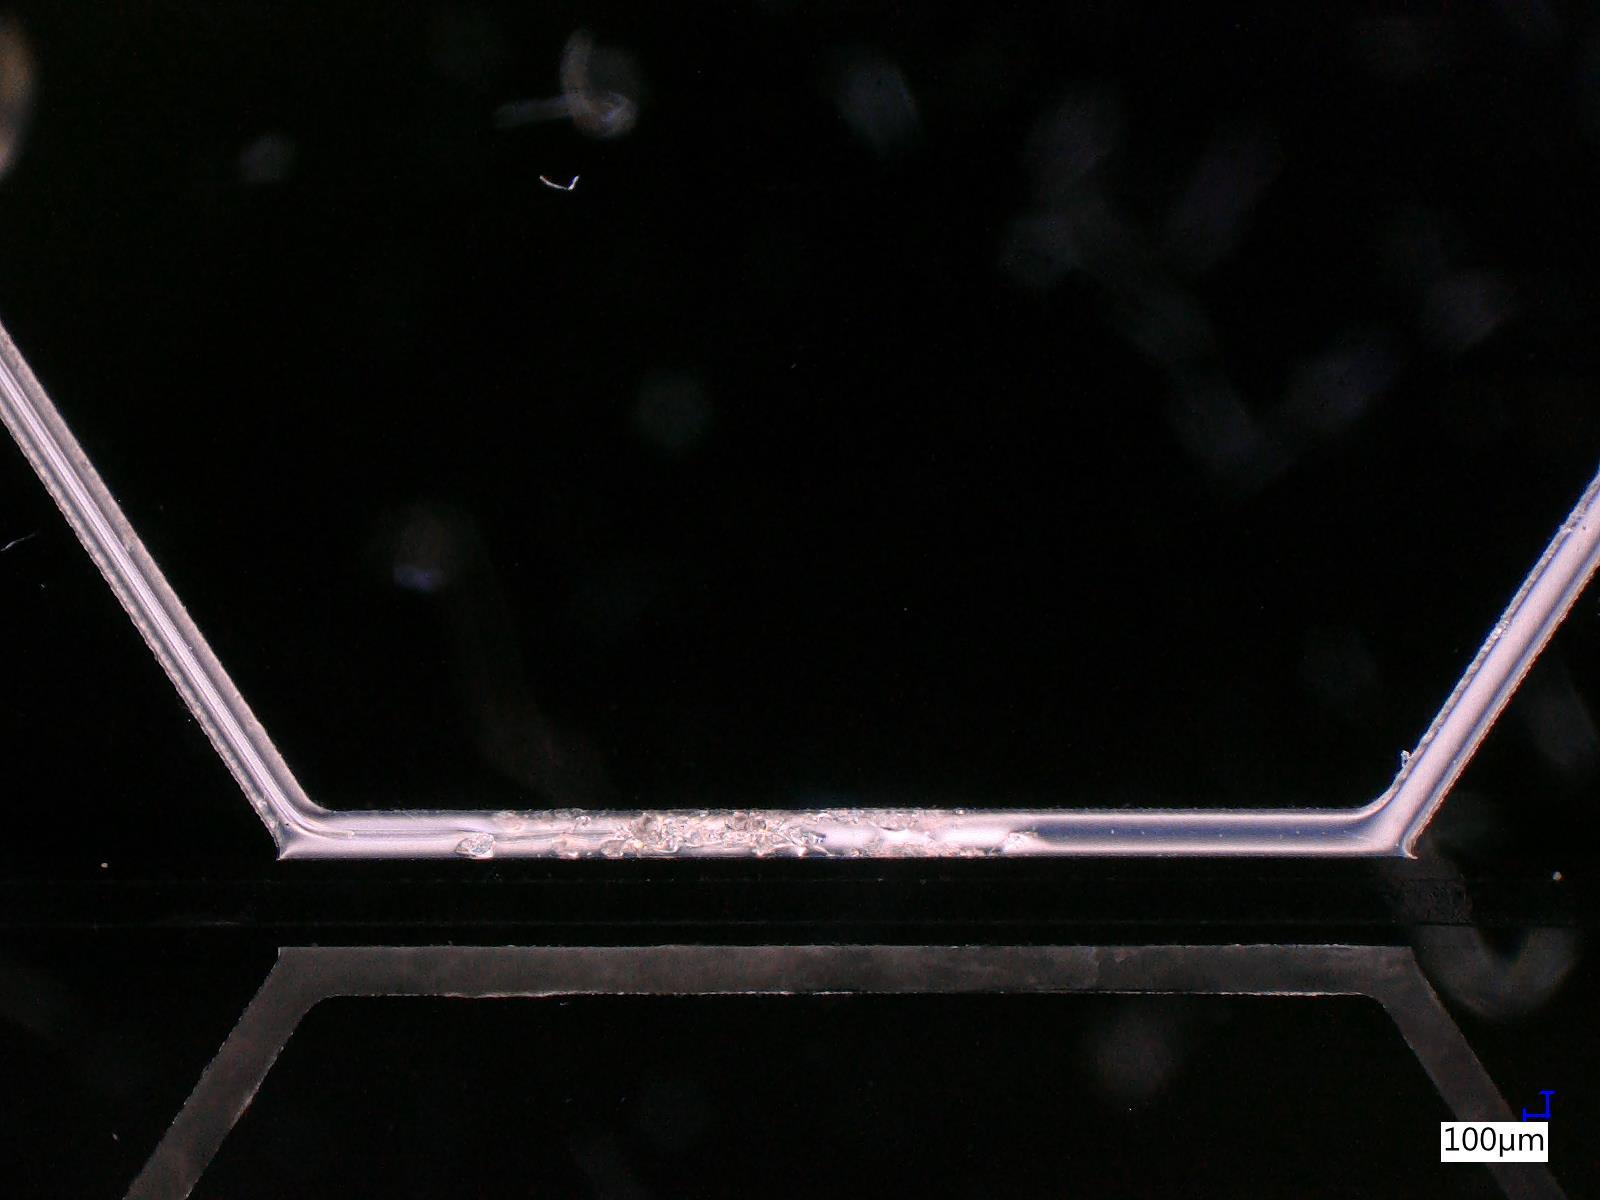sediment: (317, 949, 824, 991), (626, 818, 674, 855), (722, 816, 769, 848), (457, 836, 498, 858)
